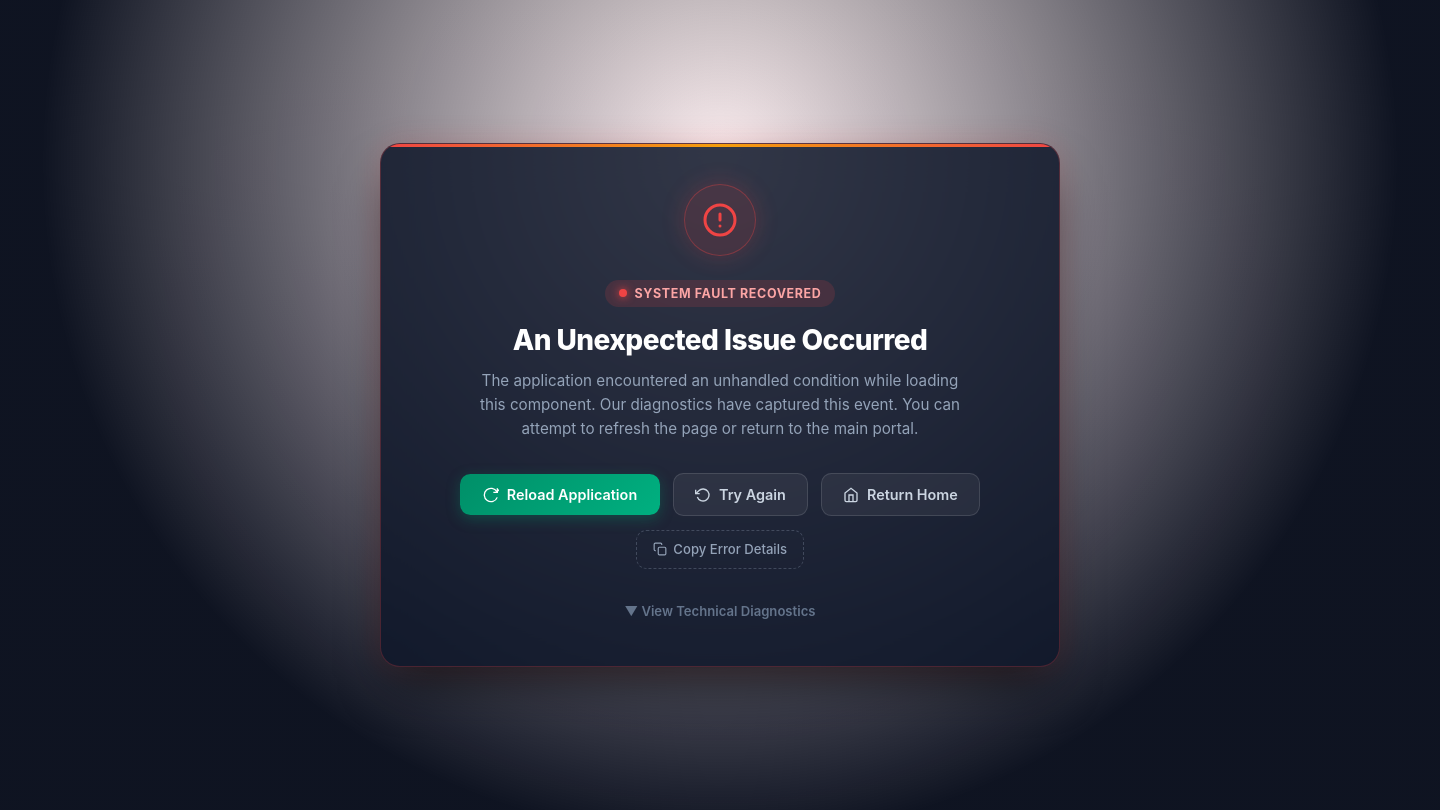
Test: GlobalErrorBoundary Component › toggles technical diagnostics drawer when toggle button is clicked
Expected: the text "▼ View Technical Diagnostics" is shown, [624,603,815,619]
Note: Click to expand
What coordinates should you click on to do the following:
click the button "▼ View Technical Diagnostics"
I would click on:
 (720, 611)
Its box is [615,597,825,626].
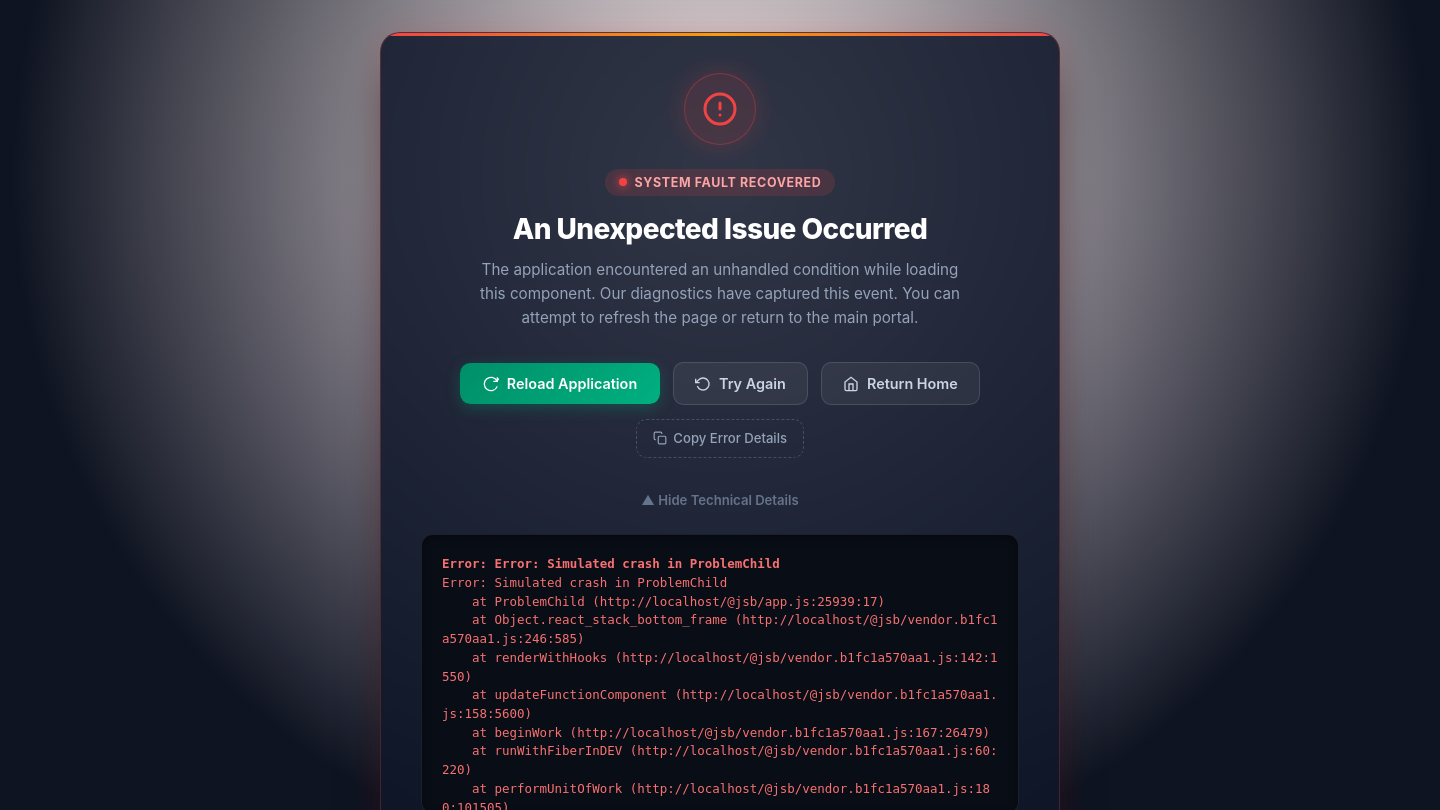
Expected: the text "Error: Error: Simulated crash in ProblemChild" is shown, [442,556,780,571]
Expected: the text "▲ Hide Technical Details" is shown, [641,492,799,508]
Note: Click to collapse
What coordinates should you click on to do the following:
click the button "▲ Hide Technical Details"
I would click on:
 (720, 500)
Its box is [632,486,808,514].
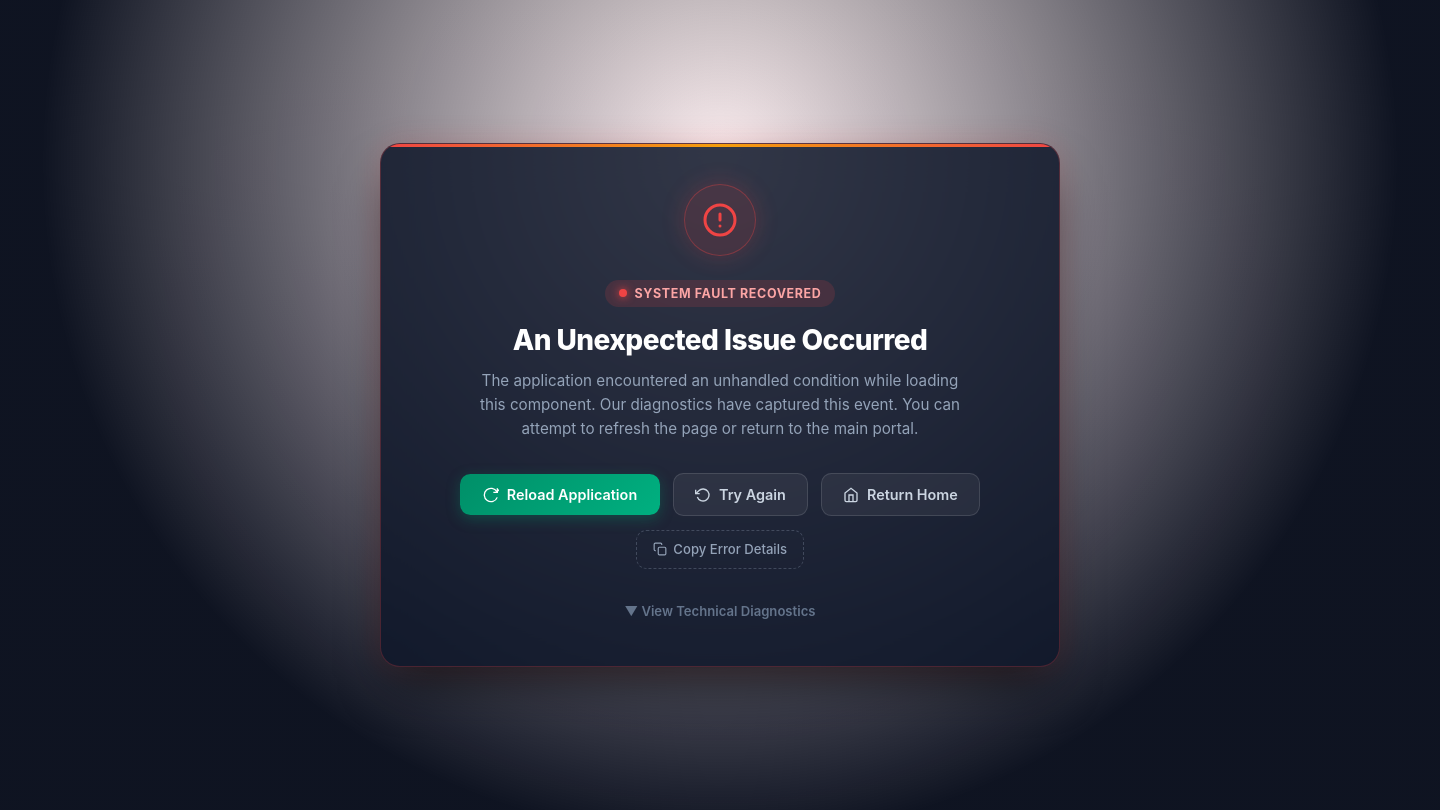
Expected: the text "Simulated crash in ProblemChild" is not shown
